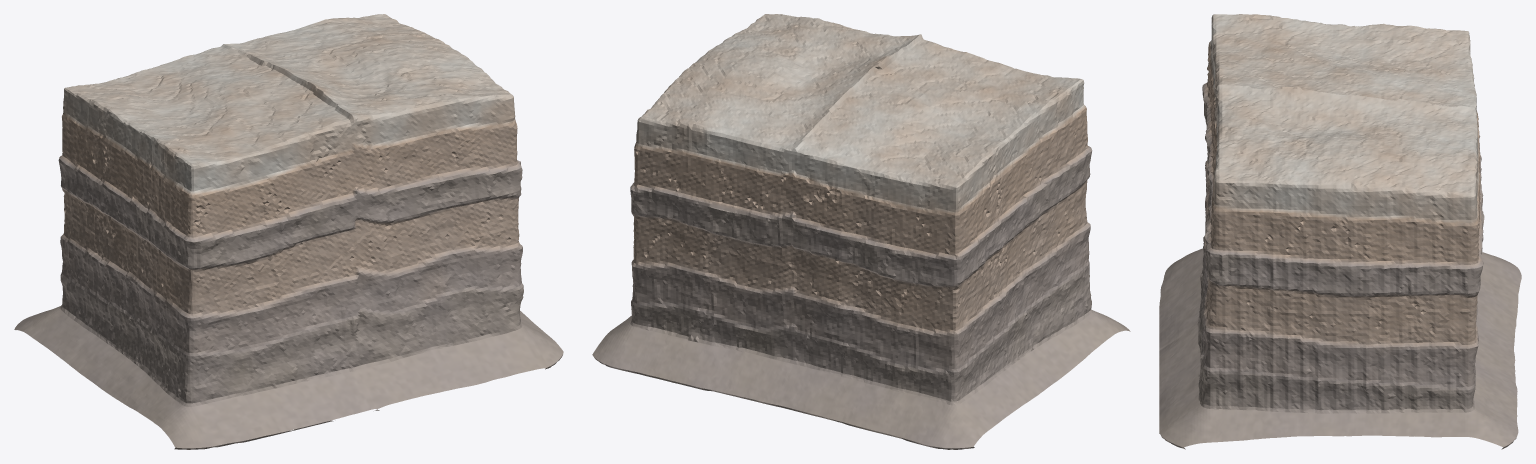
Rendered from mesa_vermeillion.glb.
3 renders of one model, left to right at view 1: azimuth 30°, elevation 25°; view 2: azimuth 150°, elevation 25°; view 3: azimuth 270°, elevation 25°, orthographic. The views are drawn at different scales.
Parts seen in each view (by area): view 1: geometry_0; view 2: geometry_0; view 3: geometry_0.
Boxes of the visible parts, <box> form: geometry_0: <box>14,14,563,449</box>; geometry_0: <box>592,14,1130,449</box>; geometry_0: <box>1159,14,1521,449</box>.
Size of the model in its own units: 46 by 30.86 by 37.34.
